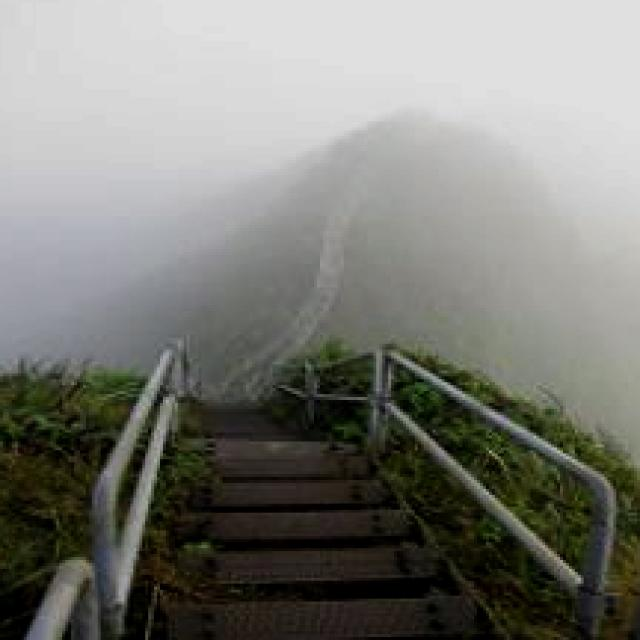downstair: (176, 484, 478, 640)
